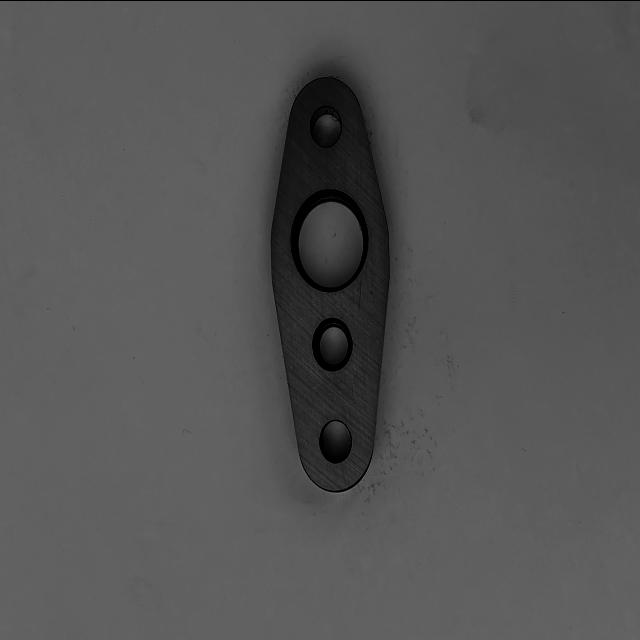lines: (357, 276, 363, 310)
